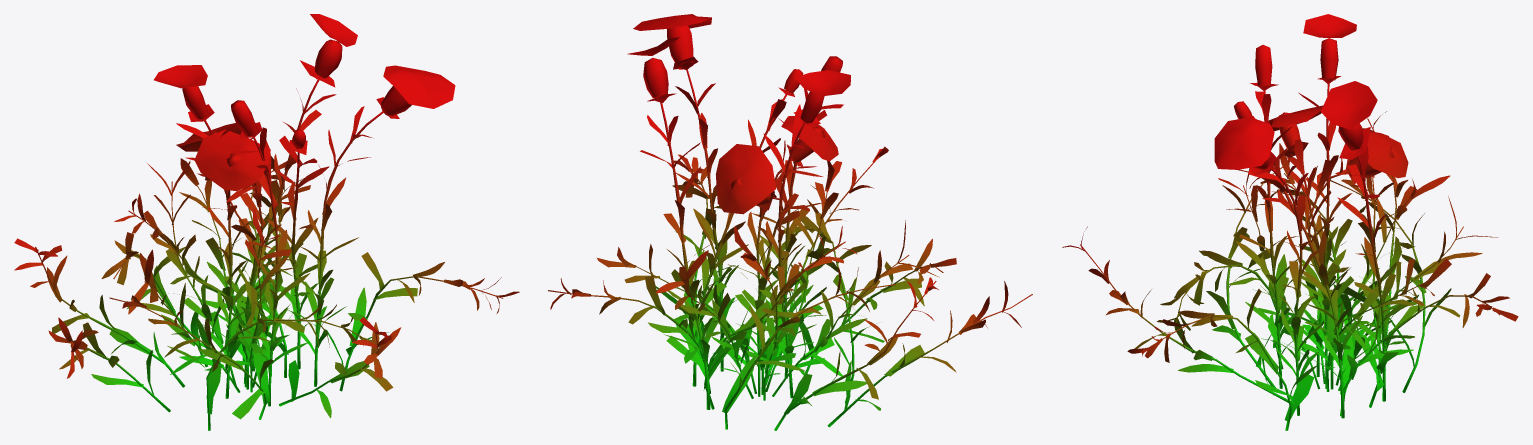
Rendered from Var1_LOD1.fbx.
The picture shows the model from 3 angles, left to right: view 1: azimuth 30°, elevation 25°; view 2: azimuth 150°, elevation 25°; view 3: azimuth 270°, elevation 25°; orthographic projection.
Visible parts, largest first — view 1: _oogu_Var1_LOD1; view 2: _oogu_Var1_LOD1; view 3: _oogu_Var1_LOD1.
Boxes of the visible parts, x1,y1,x2,y2 form: _oogu_Var1_LOD1: (14,14,519,430); _oogu_Var1_LOD1: (548,14,1032,430); _oogu_Var1_LOD1: (1062,14,1518,430).
Bounding box in the file's own units: 31.83 × 26.84 × 31.16.
